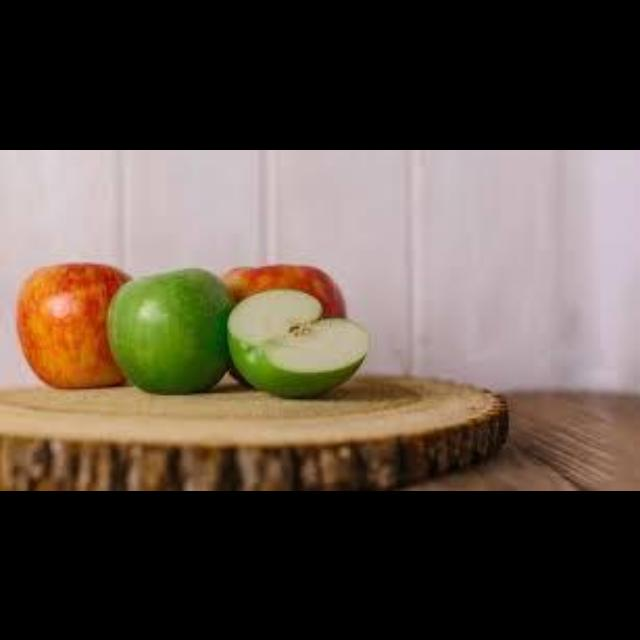apple: (106, 268, 231, 393), (227, 289, 367, 393), (19, 262, 127, 387), (221, 264, 346, 316)
